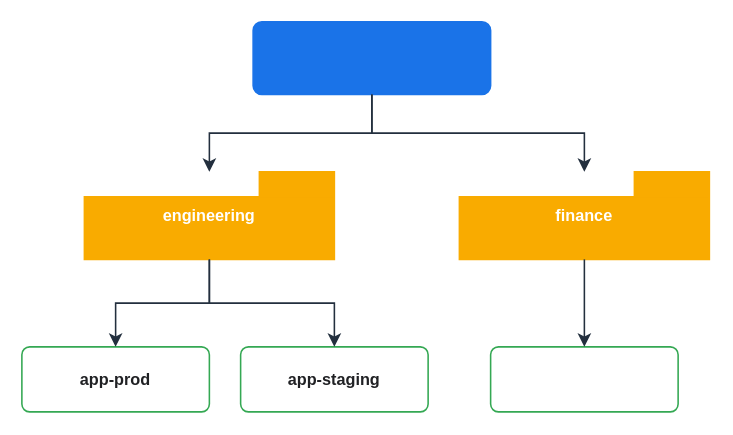
The diagram is 733 pixels wide and 435 high, and some of its shapes have lost their labels. Here are the shapes that lost their labels. From the top down, the centre of each, then its label:
the point at 371,57: Organizationexample.com
the point at 583,379: billing-system
